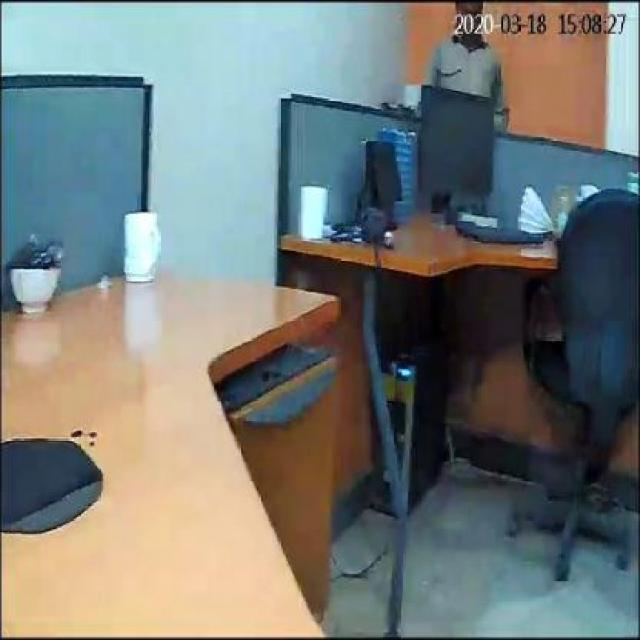spill: (4, 430, 104, 533)
